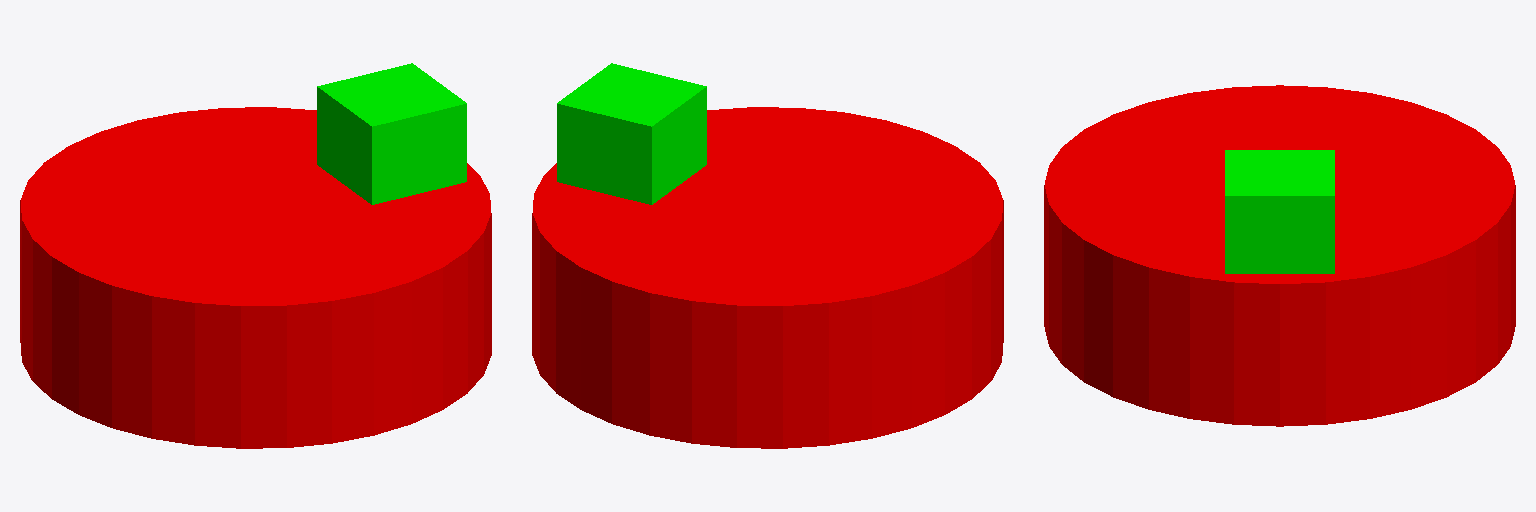
URDF robot description (test_robot):
<robot name="test_robot">
    <material name="red">
        <color rgba="1.0 0.0 0.0 1.0"/>
    </material>
    <material name="green">
        <color rgba="0.0 1.0 0.0 1.0"/>
    </material>


    <link name="world"/>

    <joint name="base_joint" type="floating">
        <parent link="world"/>
        <child link="base_link"/>
    </joint>

    <link name="base_link">
        <visual>
            <origin rpy="0 0 0" xyz="0 0 0.05"/>
            <geometry>
                <cylinder radius="0.15" length="0.10"/>
            </geometry>]
            <material name="red"/>
        </visual>
    </link>

    <joint name="joint1" type="fixed">
        <parent link="base_link"/>
        <child link="link1"/>
    </joint>

    <link name="link1">
        <visual>
            <origin rpy="0 0 0" xyz="0.1 0 0.12"/>
            <geometry>
                <box size="0.07 0.07 0.07"/>
            </geometry>]
            <material name="green"/>
        </visual>
    </link>

</robot>

--- Facts derived from the render (not from the file) ---
3 views of the same robot in one strip: view 1: azimuth 30°, elevation 25°; view 2: azimuth 150°, elevation 25°; view 3: azimuth 270°, elevation 25° (orthographic).
Robot: test_robot — 3 links, 2 joints (1 fixed, 1 floating); root link world; default pose: all joints at 0.
Links seen in each view (by area): view 1: base_link, link1; view 2: base_link, link1; view 3: base_link, link1.
Boxes of the visible links, x1,y1,x2,y2 form: base_link: (20, 107, 491, 448); link1: (317, 63, 466, 204); base_link: (532, 107, 1003, 448); link1: (557, 63, 706, 204); base_link: (1044, 85, 1515, 426); link1: (1225, 150, 1334, 273).
Size in the robot's own frame: 0.3 by 0.3 by 0.155 metres.
Geometry: primitives only (box / cylinder / sphere), no mesh files.